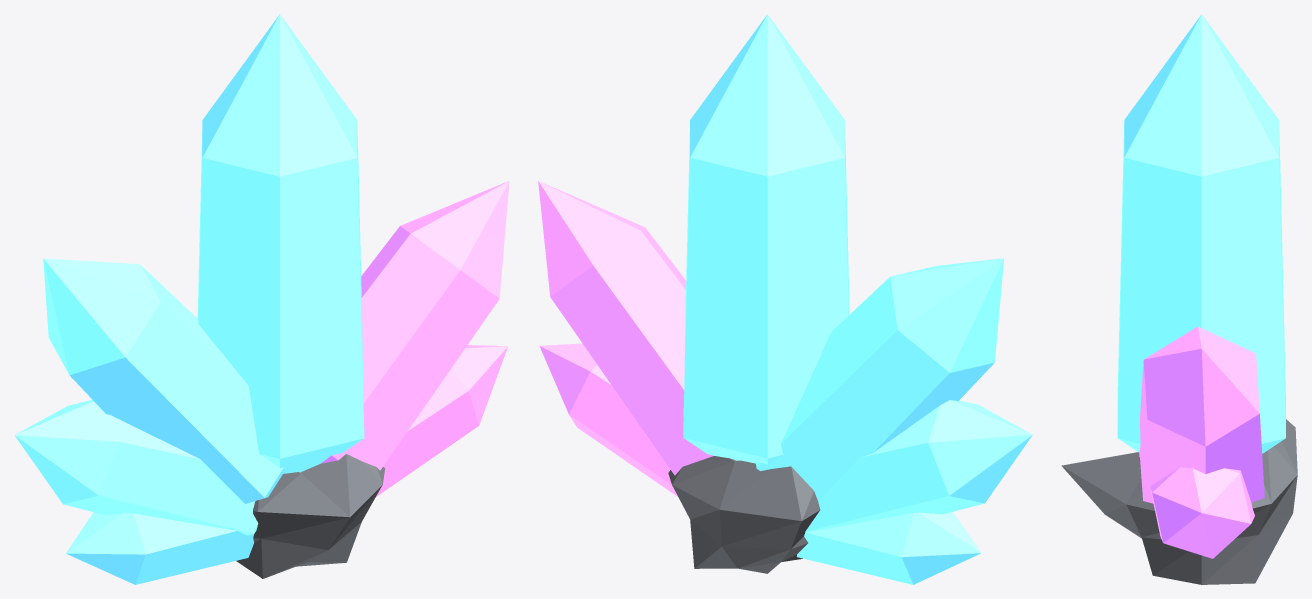
The model's file is uranium_crystal_candidate.glb.
3 views of the same model, side by side, from view 1: azimuth 30°, elevation 25°; view 2: azimuth 150°, elevation 25°; view 3: azimuth 270°, elevation 25° (orthographic).
Parts seen in each view (by area): view 1: body/gem, body/arcane, body/iron; view 2: body/gem, body/arcane, body/iron; view 3: body/gem, body/arcane, body/iron.
Part boxes in pixels (<box>): body/gem: <box>14,14,364,584</box>; body/arcane: <box>321,181,509,496</box>; body/iron: <box>236,454,385,578</box>; body/gem: <box>683,14,1032,584</box>; body/arcane: <box>538,180,713,496</box>; body/iron: <box>668,456,820,573</box>; body/gem: <box>1117,14,1285,453</box>; body/arcane: <box>1139,326,1264,558</box>; body/iron: <box>1061,419,1297,584</box>.
Size of the model in its own units: 0.3234 by 0.3497 by 0.1338.
